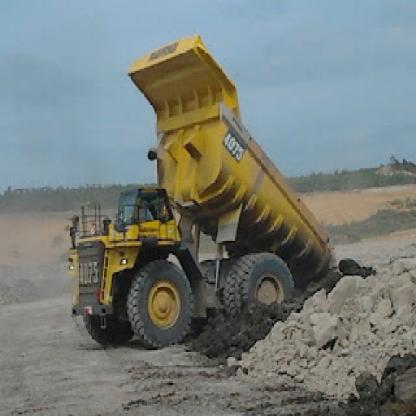dump_truck: (60, 33, 344, 348)
